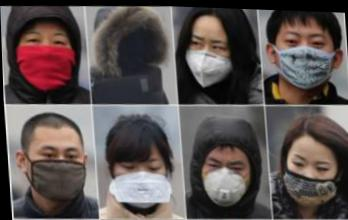OK: (15, 27, 78, 90), (110, 148, 168, 208), (28, 142, 85, 201), (279, 28, 335, 86), (183, 29, 234, 85), (200, 150, 251, 204)
WRONG: (283, 147, 337, 203)
